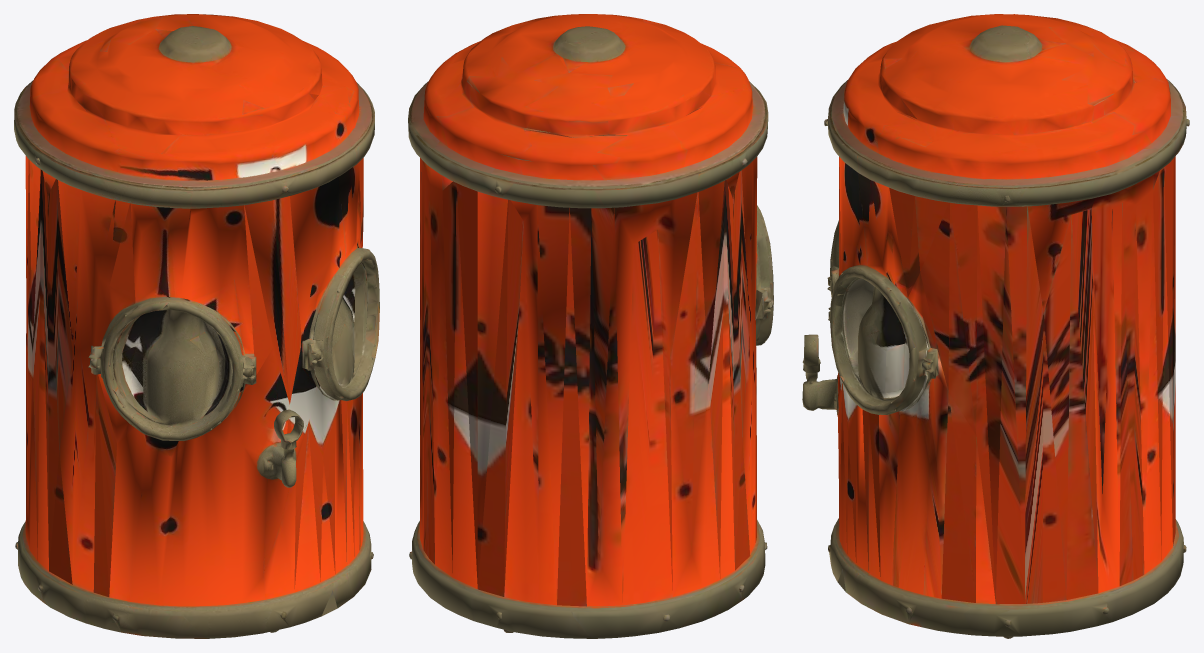
Rendered from perk_fv_hammerfall.glb.
The picture shows the model from 3 angles, left to right: view 1: azimuth 30°, elevation 25°; view 2: azimuth 150°, elevation 25°; view 3: azimuth 270°, elevation 25°; orthographic projection.
Visible parts, largest first — view 1: perk_fv_hammerfall; view 2: perk_fv_hammerfall; view 3: perk_fv_hammerfall.
Boxes of the visible parts, x1,y1,x2,y2 form: perk_fv_hammerfall: (14,14,379,638); perk_fv_hammerfall: (408,14,773,638); perk_fv_hammerfall: (802,14,1189,638).
Bounding box in the file's own units: 1.29 × 2.1 × 1.37.
1 material, 1 textured.
